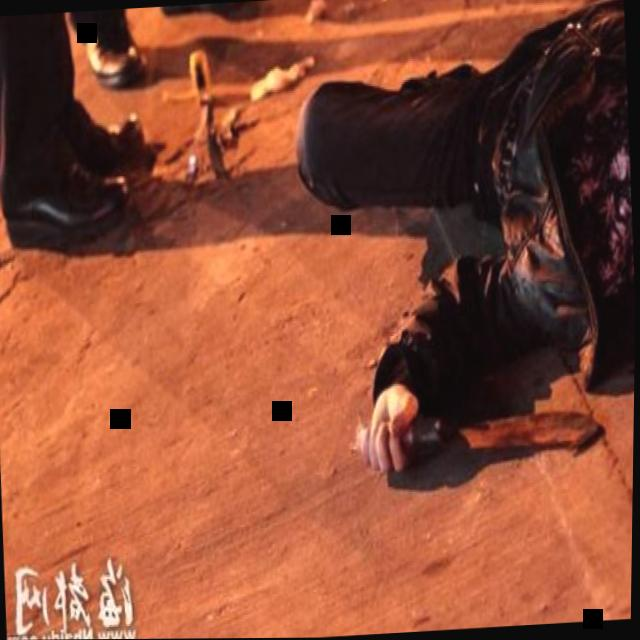Fall-Detected: (272, 0, 640, 509)
